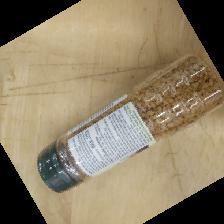TayNinh_green: (35, 52, 224, 196)
